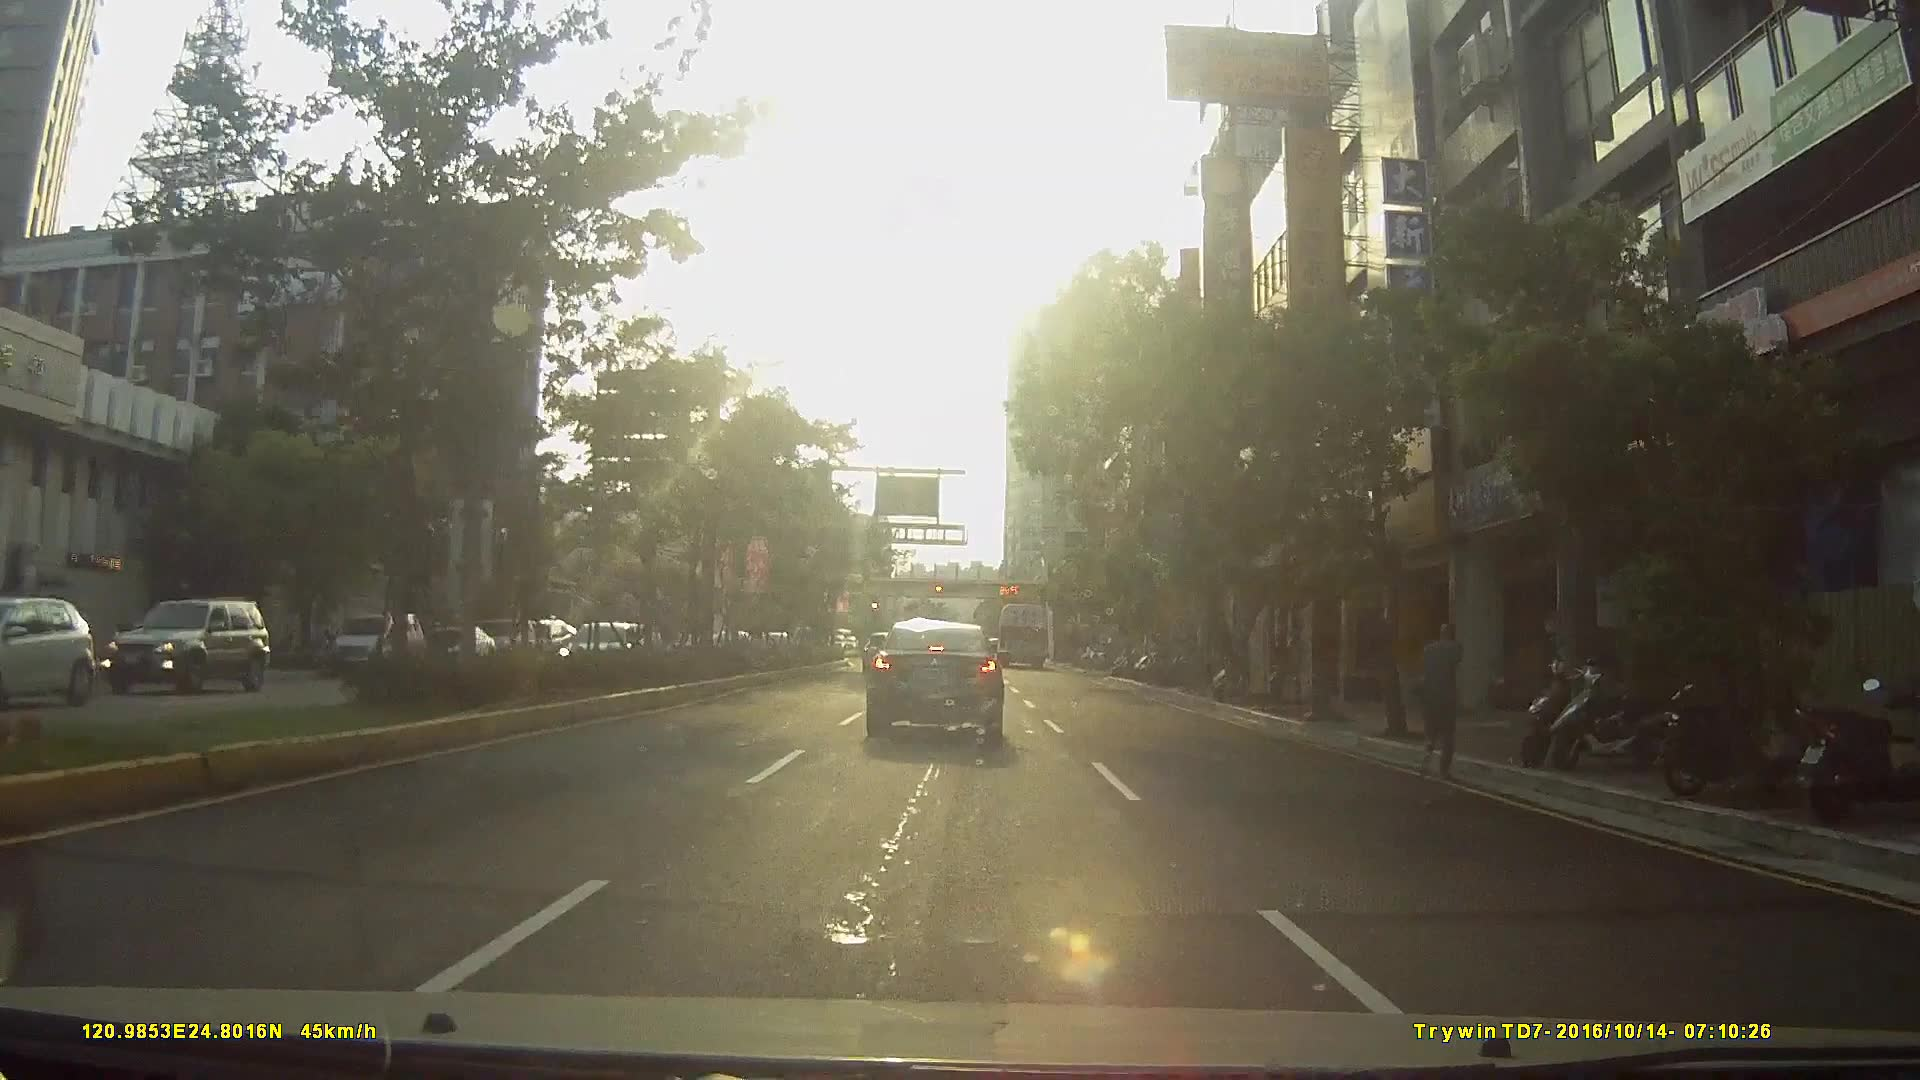pedestrian: (1410, 617, 1470, 773)
vehicle: (96, 594, 276, 704), (863, 614, 1004, 735), (1, 591, 115, 708), (324, 606, 422, 670), (995, 596, 1050, 663)
